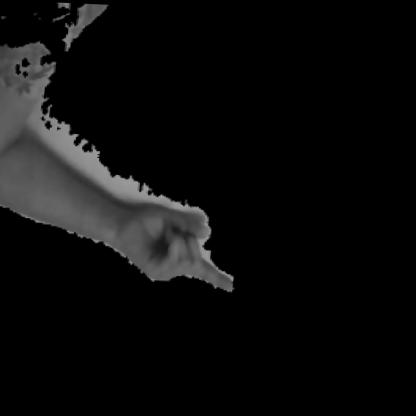one: (0, 128, 289, 315)
